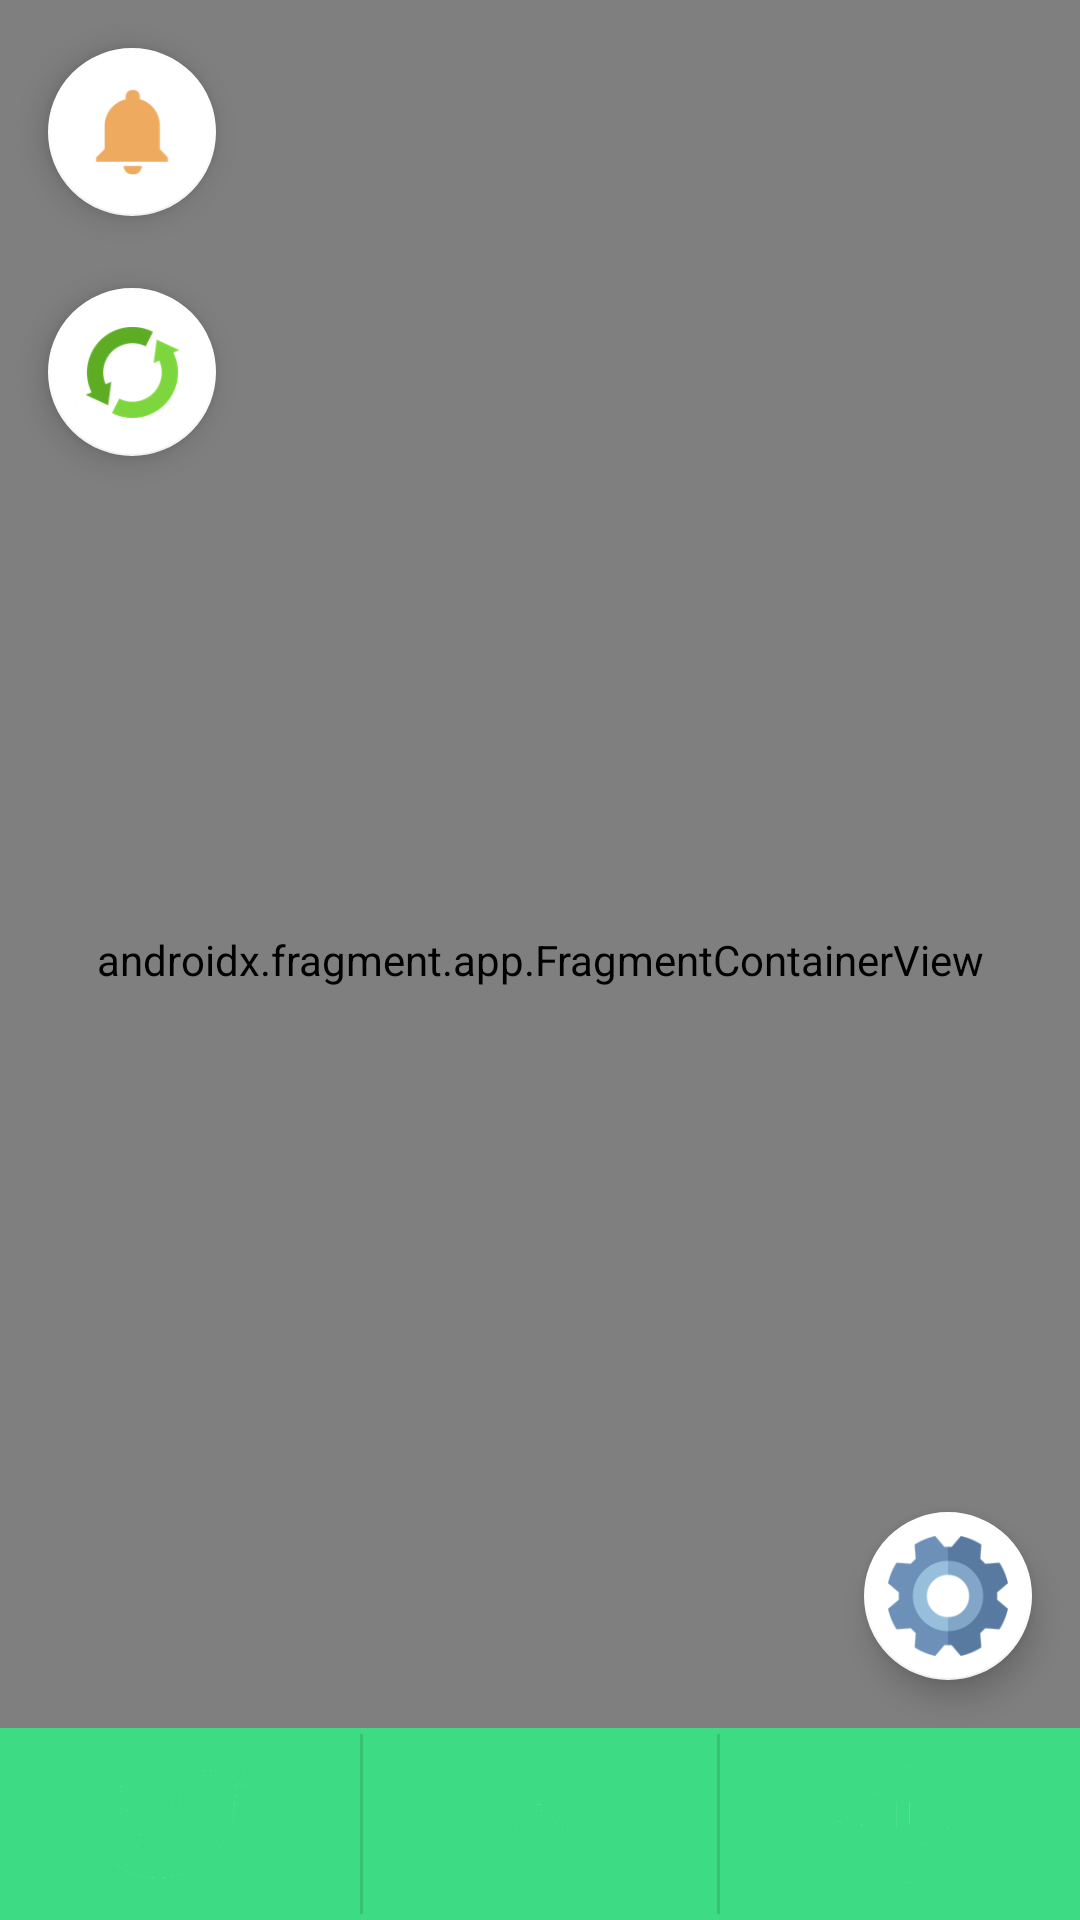

Icons on this 1080×1920 Android screen, each with its box as (x1, y1, x2, y2):
Centre de notifications: (48, 48, 216, 216)
Options: (864, 1512, 1032, 1680)
refresh: (48, 288, 216, 456)
